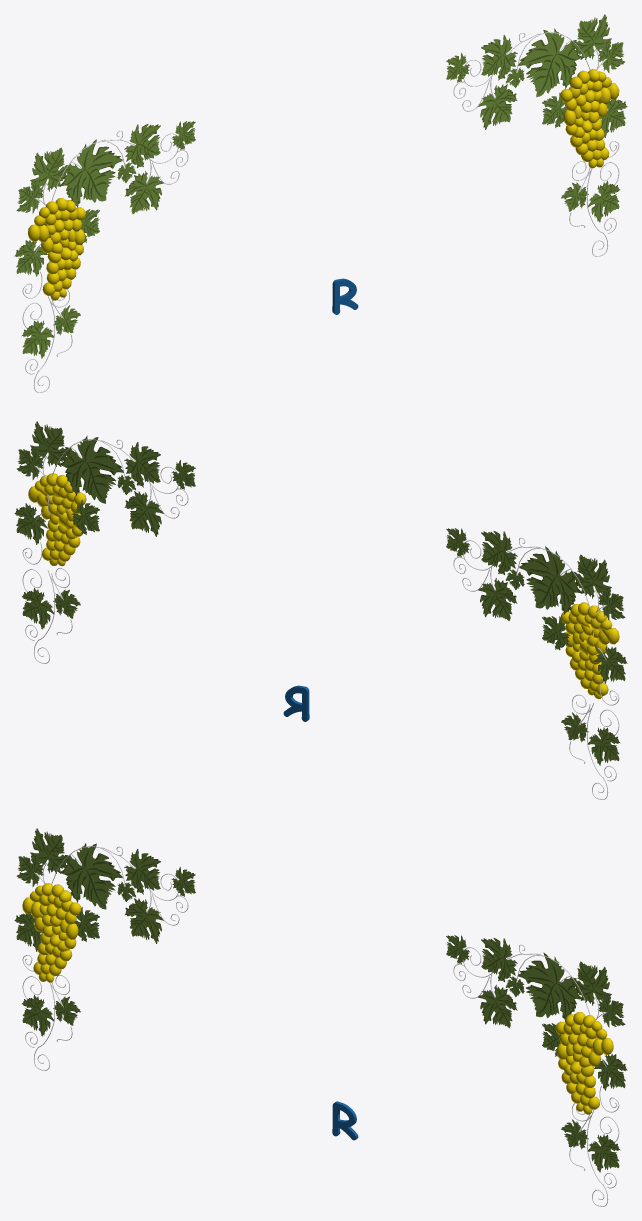
File: FSM-Yazi150825.gltf
The picture shows the model from 3 angles, top to bottom: view 1: azimuth 30°, elevation 25°; view 2: azimuth 150°, elevation 25°; view 3: azimuth 330°, elevation 25°; orthographic projection.
Parts seen in each view (by area): view 1: Dal, Cube.004, Cube.005, Cube.007, Cube.023, Cube.003, Cube.001, Cube.022, Cube.010, Cube.006, YaziR, Cube.024 (+1 smaller); view 2: Dal, Cube.004, Cube.005, Cube.007, Cube.023, Cube.022, Cube.001, Cube.003, Cube.010, Cube.006, Cube.024, YaziR (+1 smaller); view 3: Dal, Cube.005, Cube.004, Cube.007, Cube.023, Cube.003, Cube.022, Cube.001, Cube.006, Cube.010, Cube.024, YaziR (+1 smaller).
Boxes of the visible parts, x1,y1,x2,y2 form: Dal: (14, 14, 619, 392); Cube.004: (28, 198, 85, 300); Cube.005: (560, 69, 619, 168); Cube.007: (518, 28, 582, 97); Cube.023: (60, 139, 122, 207); Cube.003: (125, 171, 163, 214); Cube.001: (478, 84, 517, 129); Cube.022: (30, 147, 68, 191); Cube.010: (21, 320, 53, 358); Cube.006: (588, 180, 619, 222); YaziR: (332, 278, 358, 314); Cube.024: (599, 99, 627, 137); Dal: (22, 421, 627, 799); Cube.004: (560, 602, 619, 699); Cube.005: (28, 473, 86, 566); Cube.007: (60, 435, 123, 503); Cube.023: (519, 546, 580, 614); Cube.022: (572, 554, 611, 598); Cube.001: (124, 491, 163, 536); Cube.003: (478, 578, 517, 620); Cube.010: (588, 727, 620, 765); Cube.006: (22, 587, 53, 629); Cube.024: (14, 503, 47, 544); YaziR: (283, 685, 309, 721); Dal: (14, 846, 619, 1206); Cube.005: (555, 1012, 613, 1114); Cube.004: (22, 883, 81, 982); Cube.007: (518, 952, 582, 1022); Cube.023: (60, 843, 122, 909); Cube.003: (125, 898, 163, 943); Cube.022: (30, 828, 68, 873); Cube.001: (478, 984, 517, 1028); Cube.006: (588, 1134, 620, 1172); Cube.010: (22, 994, 53, 1036); Cube.024: (594, 1054, 627, 1090); YaziR: (332, 1101, 358, 1140).
Size of what is drawn, in the model's own units: 4.45 by 1.7 by 0.1249.
4 materials, 1 textured.
